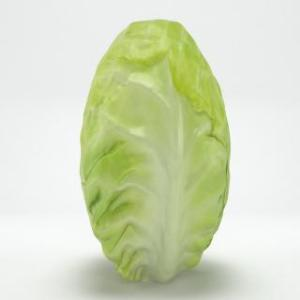cabbage: (79, 12, 232, 282)
